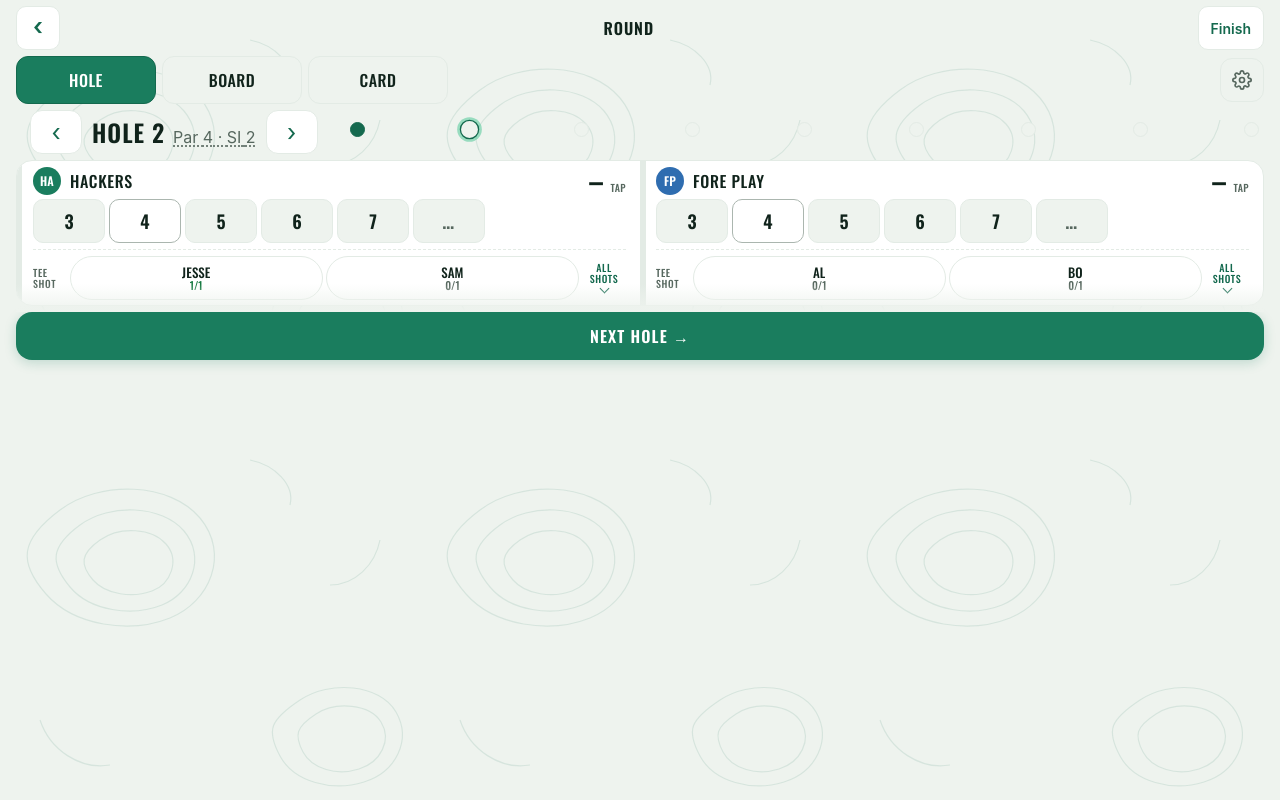
Scenario: the warning banner › asks on Next when a team has scored the hole with no tee shot picked
What coordinates should you click on to do the following:
click the button named "Hole 1, complete"
I would click on:
 (358, 129)
Its box is [346,117,370,141].
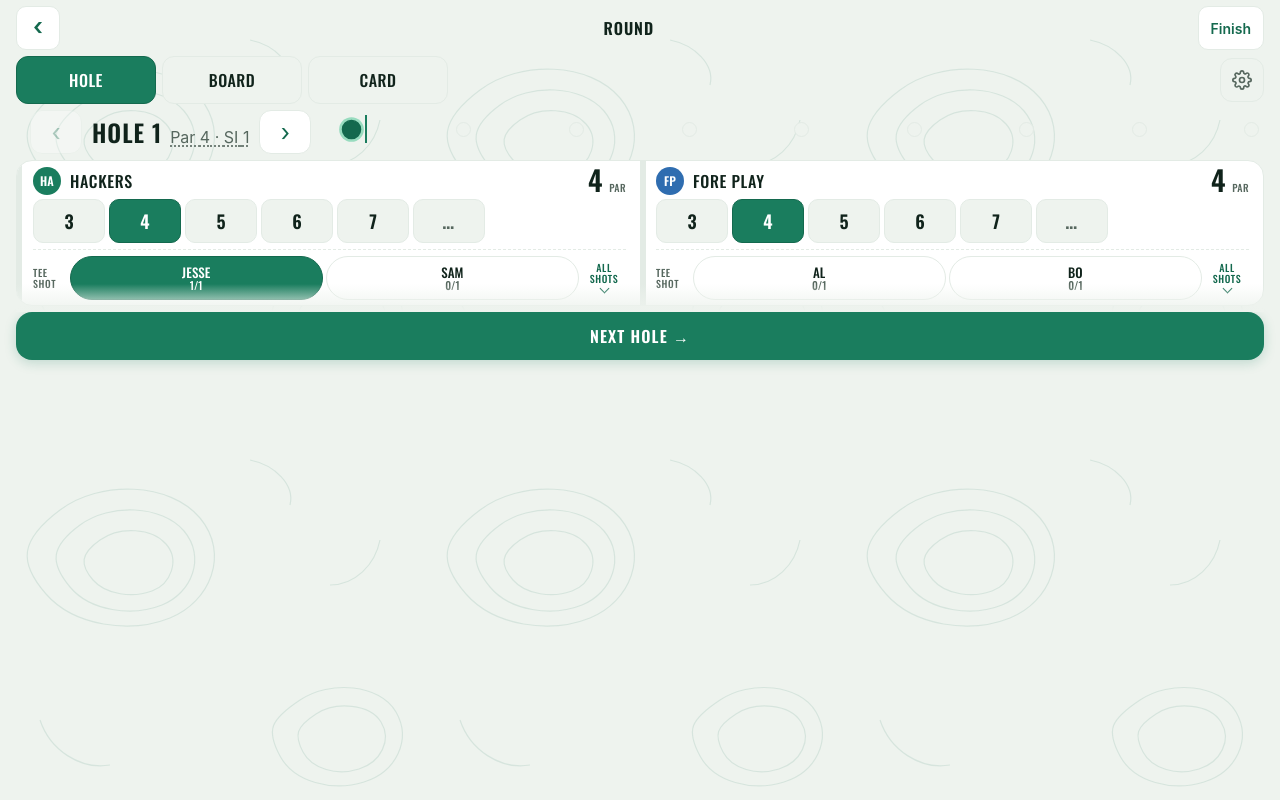
What coordinates should you click on to do the following:
click the button "Next Hole →"
I would click on:
 (640, 336)
Its box is [16,312,1264,360].
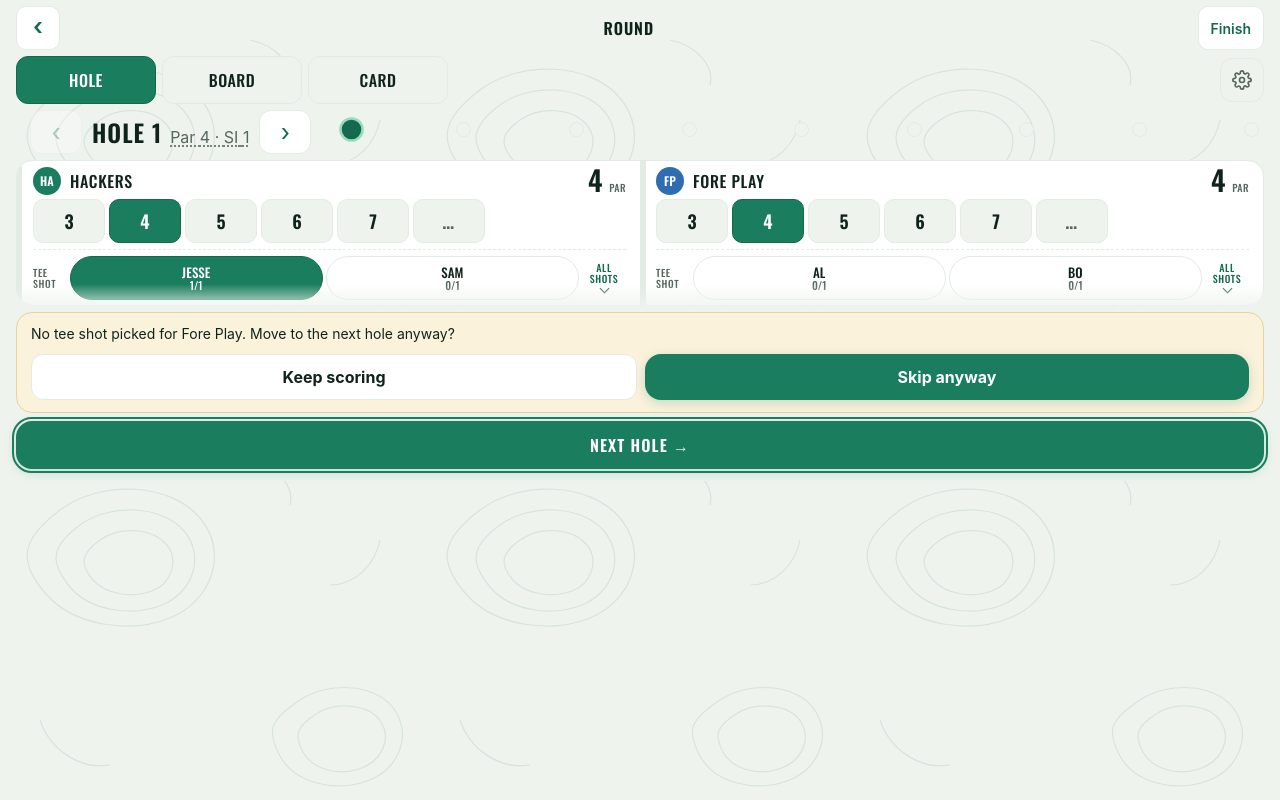
Result: the message shows "No tee shot picked for Fore Play. Move to the next hole anyway?" at [31,325,455,342]
# Keep scoring stays here: the scores are in, the drive is what is missing.
What coordinates should you click on to do the following:
click the button "Keep scoring"
I would click on:
 (334, 377)
Its box is [31,354,637,400].
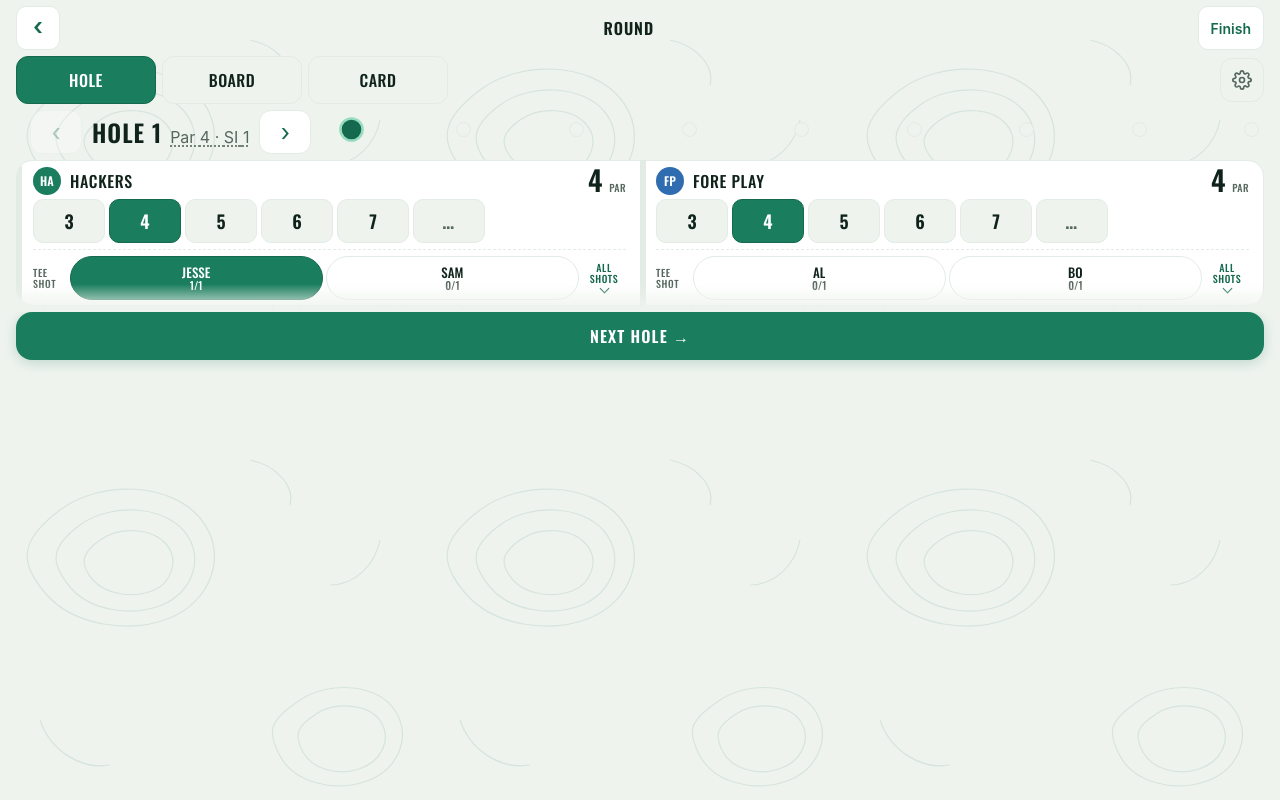
Result: the text "Hole 1" is shown at [92,114,162,150]
# Picking it clears the question.
What coordinates should you click on to do the following:
click the button with aria-label "Tee shot, Al"
I would click on:
 (819, 278)
Its box is [693,256,946,300].
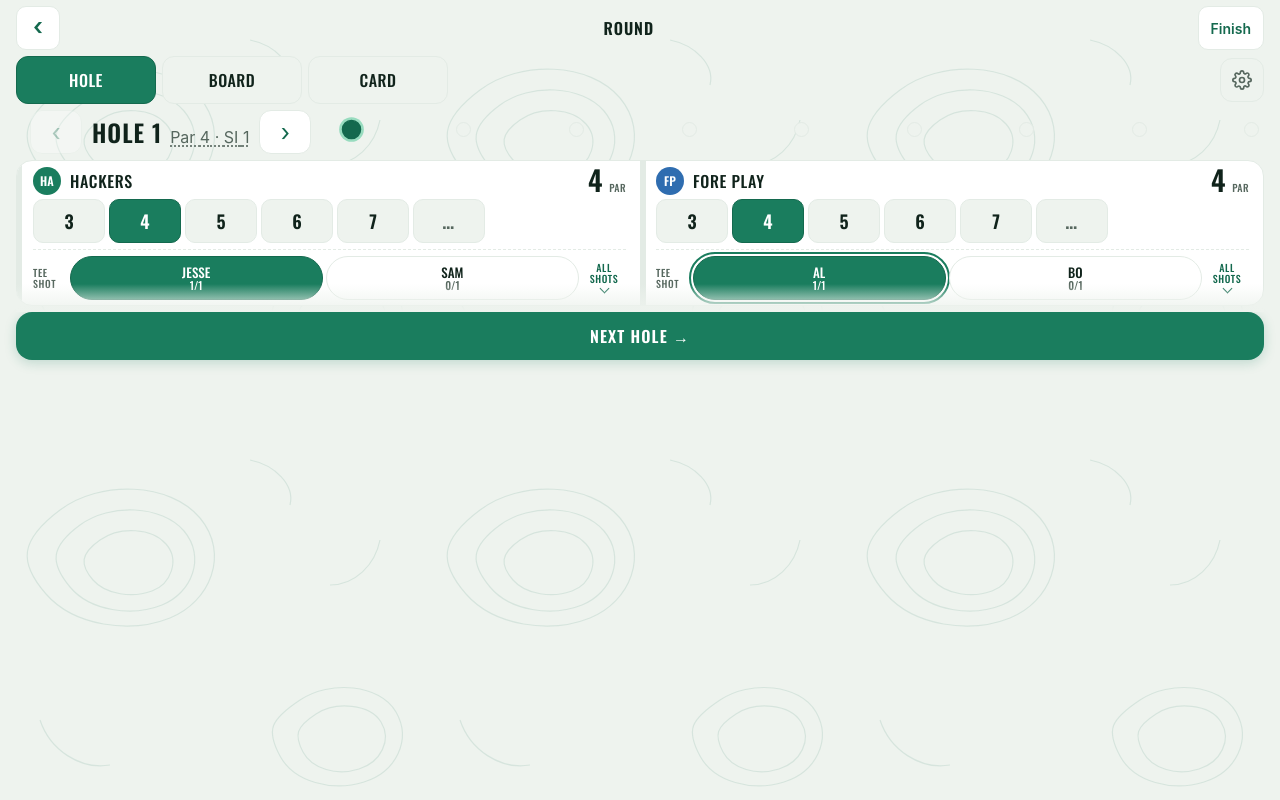
What coordinates should you click on to do the following:
click the button "Next Hole →"
I would click on:
 (640, 336)
Its box is [16,312,1264,360].
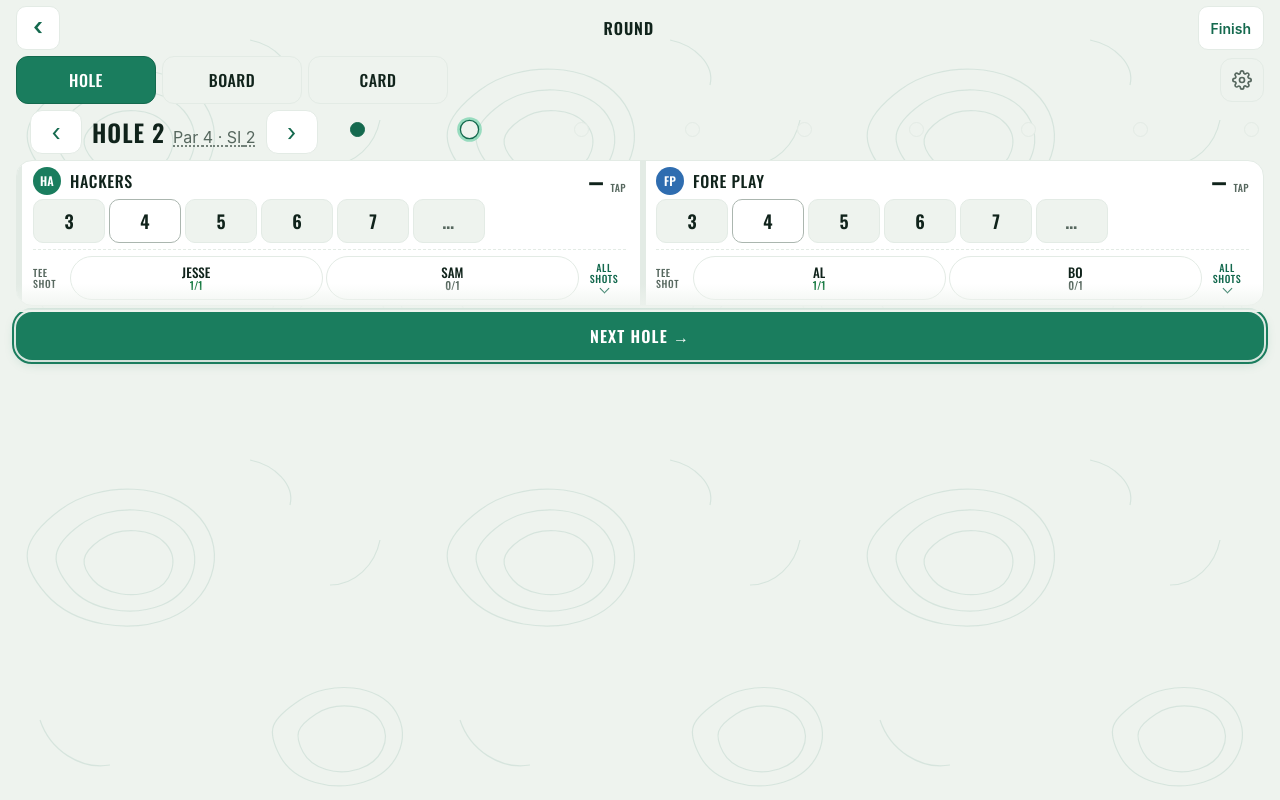
Result: the text "Hole 2" is shown at [92,114,165,150]
